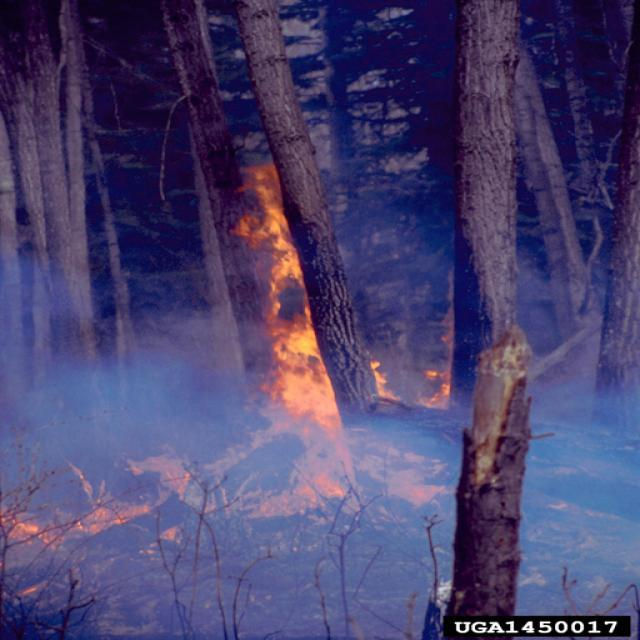Fire: (0, 162, 455, 552)
